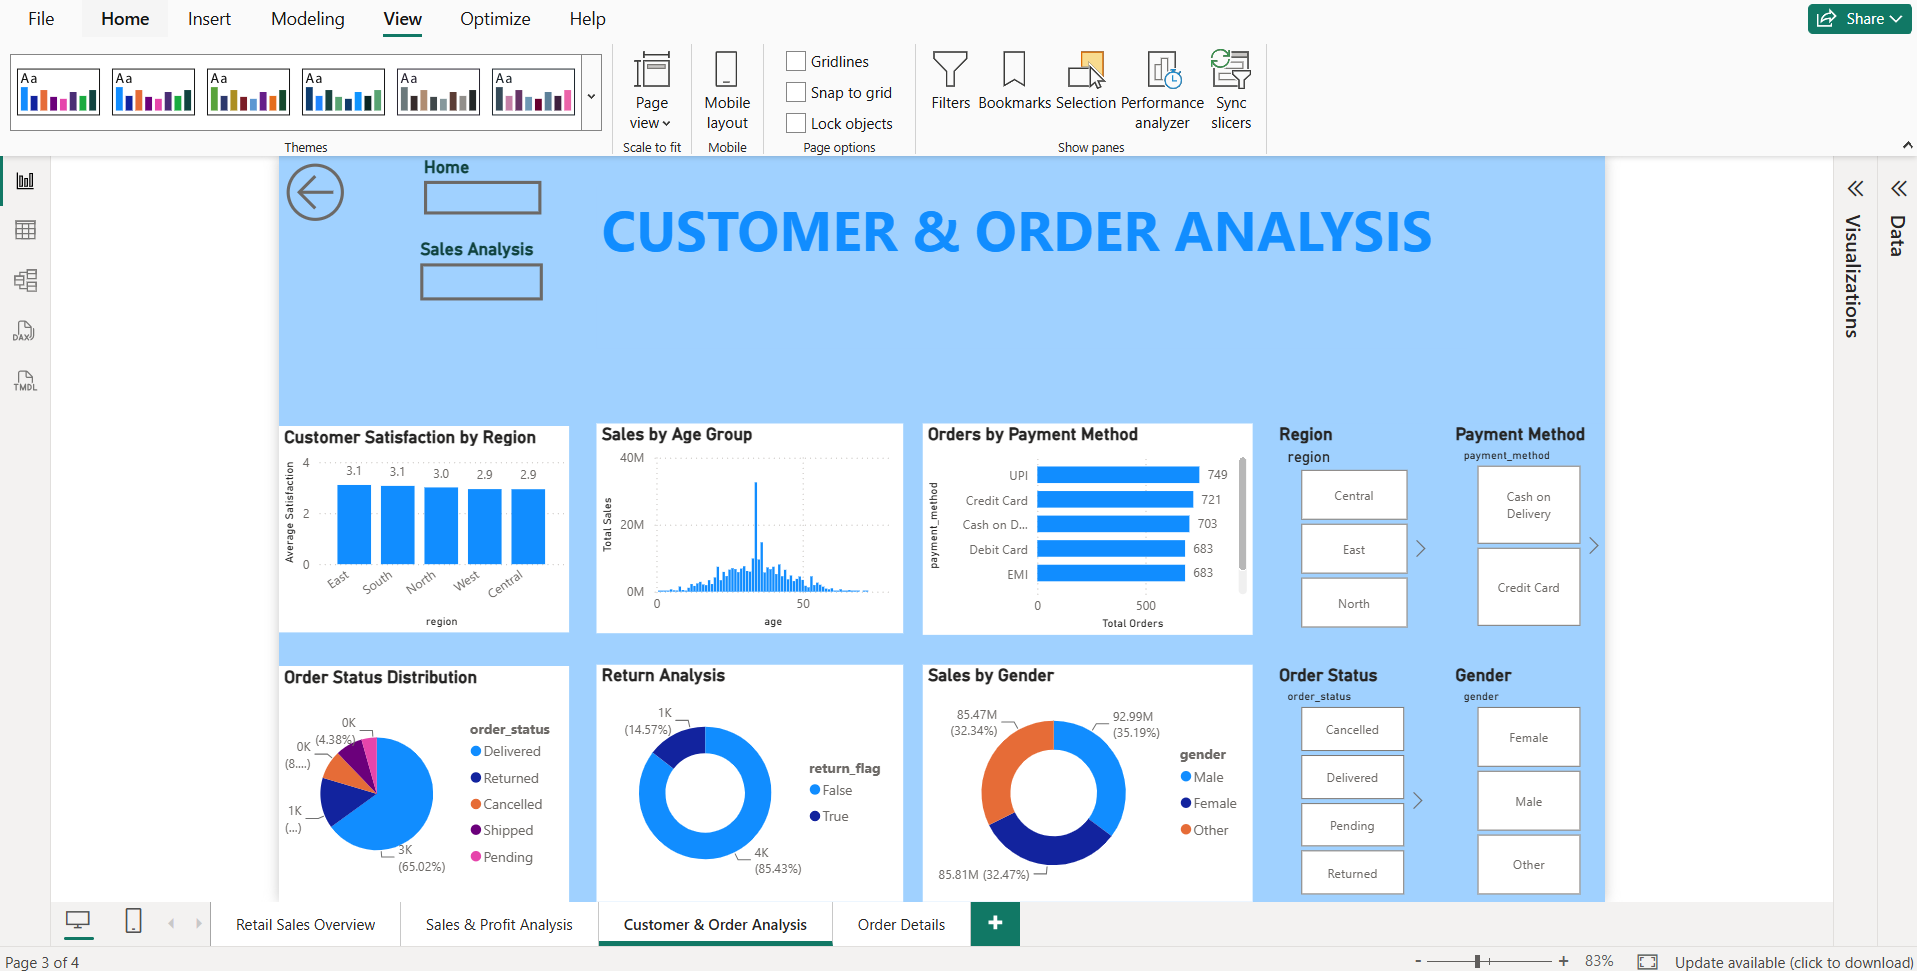

Layout of this report page (visuals, bound fields, positions):
{"tool":"powerbi","page":{"name":"Customer & Order Analysis","canvas":[1280,720],"ordinal":2},"visuals":[{"type":"actionButton","title":"Home","box":[140,0,113.3,56.7],"z":0},{"type":"clusteredColumnChart","title":"Customer Satisfaction by Region","fields":{"Category":["Cleaned Data.region"],"Y":["Cleaned Data.Average Satisfaction"]},"box":[0,260.9,280,199.4],"z":1000},{"type":"textbox","box":[306.4,29.3,839.9,156.8],"z":2000},{"type":"donutChart","title":"Sales by Gender","fields":{"Category":["Cleaned Data.gender"],"Y":["Cleaned Data.Total Sales"]},"box":[621.5,491.1,318.1,228.7],"z":3000},{"type":"clusteredBarChart","title":"Orders by Payment Method","fields":{"Category":["Cleaned Data.payment_method"],"Y":["Cleaned Data.Total Orders"]},"box":[621.5,258,318.1,203.8],"z":4000},{"type":"pieChart","title":"Order Status Distribution","fields":{"Category":["Cleaned Data.order_status"],"Y":["Cleaned Data.Total Orders"]},"box":[0,491.7,280.1,228],"z":5000},{"type":"donutChart","title":"Return Analysis","fields":{"Category":["Cleaned Data.return_flag"],"Y":["Cleaned Data.Total Orders"]},"box":[306.4,491.1,296.1,228.7],"z":6000},{"type":"clusteredColumnChart","title":"Sales by Age Group","fields":{"Category":["Cleaned Data.age"],"Y":["Cleaned Data.Total Sales"]},"box":[306.4,258,296.1,202.3],"z":7000},{"type":"slicer","title":"Region","fields":{"Values":["Cleaned Data.region"]},"box":[960.1,258,152.4,203.8],"z":8000},{"type":"slicer","title":"Payment Method","fields":{"Values":["Cleaned Data.payment_method"]},"box":[1130.2,258,149.5,202.3],"z":9000},{"type":"slicer","title":"Order Status","fields":{"Values":["Cleaned Data.order_status"]},"box":[960.1,491.1,149.5,228.7],"z":10000},{"type":"slicer","title":"Gender","fields":{"Values":["Cleaned Data.gender"]},"box":[1130.2,491.1,149.5,228.7],"z":11000},{"type":"actionButton","title":"Sales Analysis","box":[136.7,80,118.3,60],"z":12000},{"type":"actionButton","box":[0,0,100,70],"z":13000}]}

Visuals, with their boxes on the page's 1280x720 design canvas (x1, y1, x2, y2). These are canvas units, not pixel positions in the 1917x971 screenshot, which may show the page scaled, cropped or inside an application window:
"Home" actionButton: l=140, t=0, r=253, b=57
"Customer Satisfaction by Region" clusteredColumnChart: l=0, t=261, r=280, b=460
textbox: l=306, t=29, r=1146, b=186
"Sales by Gender" donutChart: l=622, t=491, r=940, b=720
"Orders by Payment Method" clusteredBarChart: l=622, t=258, r=940, b=462
"Order Status Distribution" pieChart: l=0, t=492, r=280, b=720
"Return Analysis" donutChart: l=306, t=491, r=602, b=720
"Sales by Age Group" clusteredColumnChart: l=306, t=258, r=602, b=460
"Region" slicer: l=960, t=258, r=1112, b=462
"Payment Method" slicer: l=1130, t=258, r=1280, b=460
"Order Status" slicer: l=960, t=491, r=1110, b=720
"Gender" slicer: l=1130, t=491, r=1280, b=720
"Sales Analysis" actionButton: l=137, t=80, r=255, b=140
actionButton: l=0, t=0, r=100, b=70
